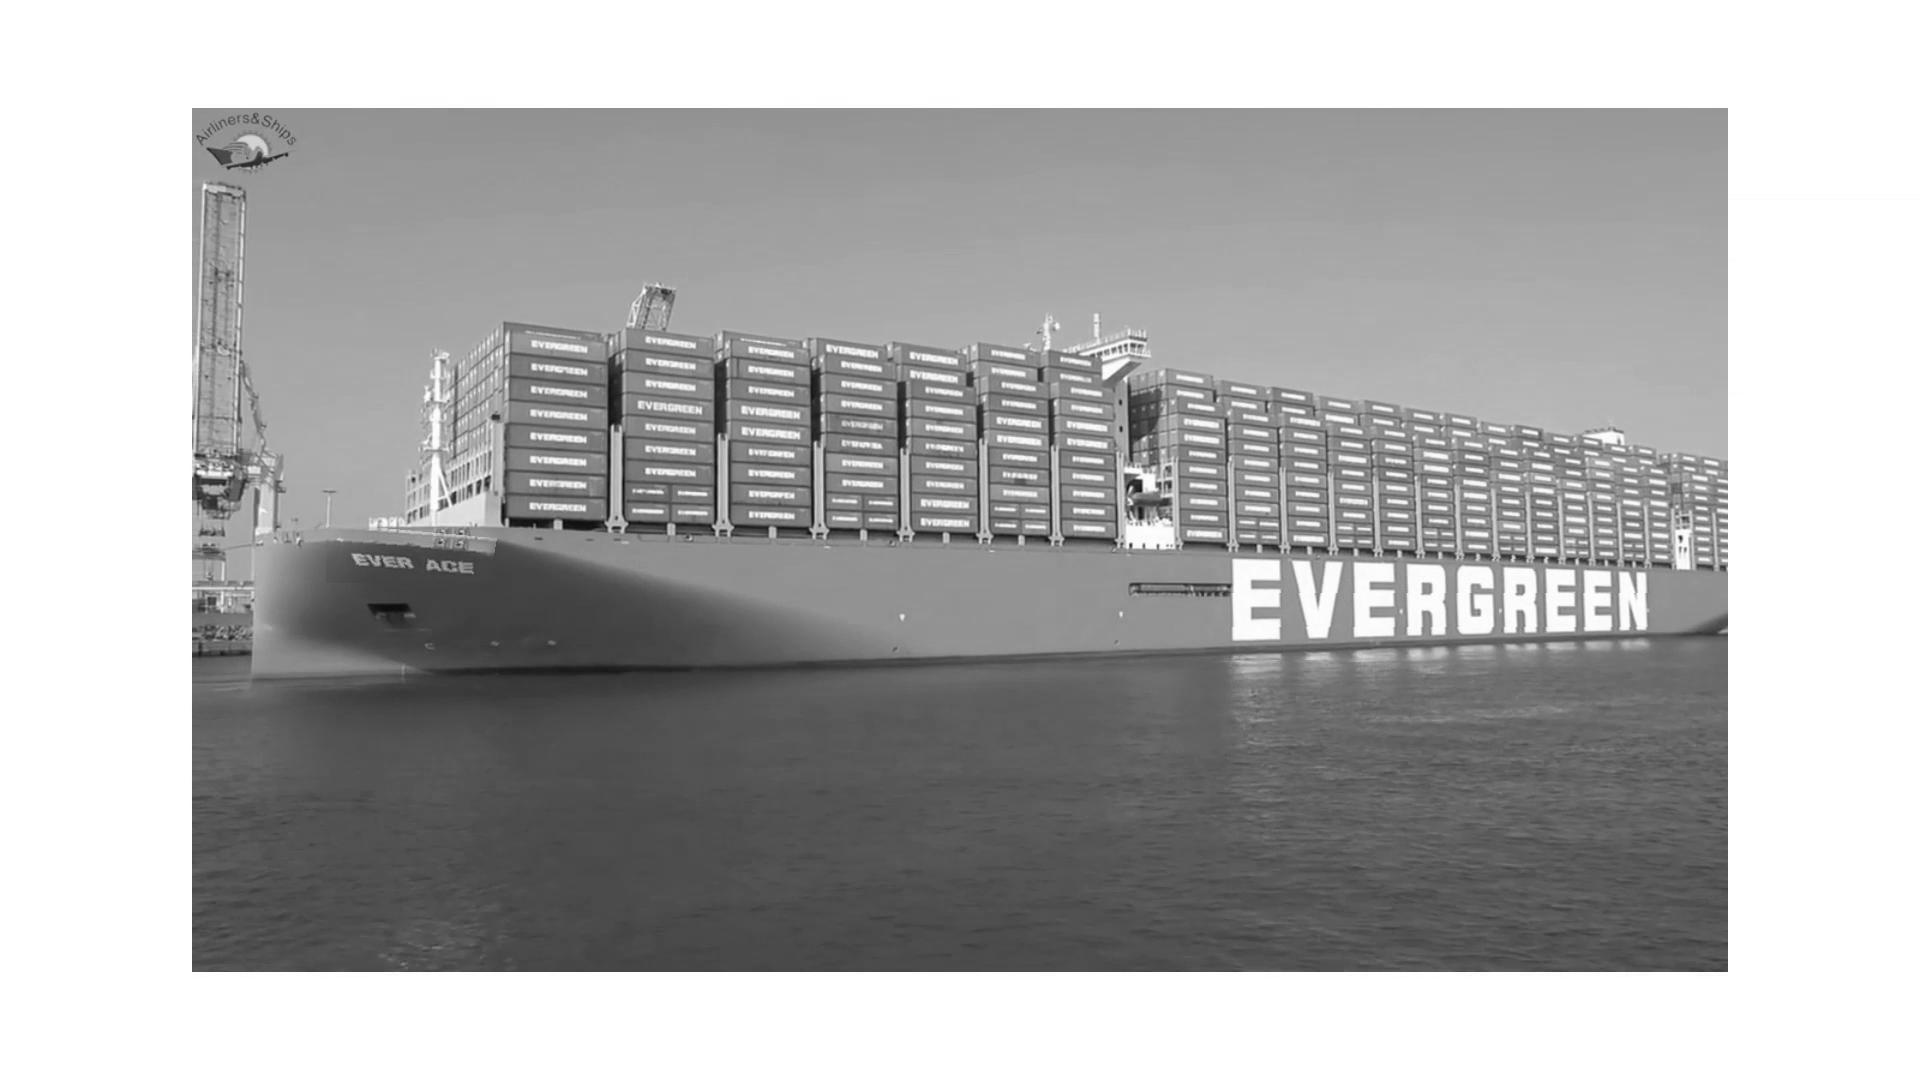OCR: (1204, 542, 1668, 662), (326, 524, 497, 583)
